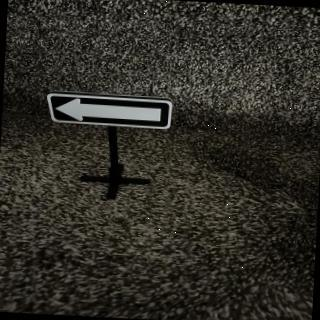sign_oneway_left: (46, 92, 175, 132)
